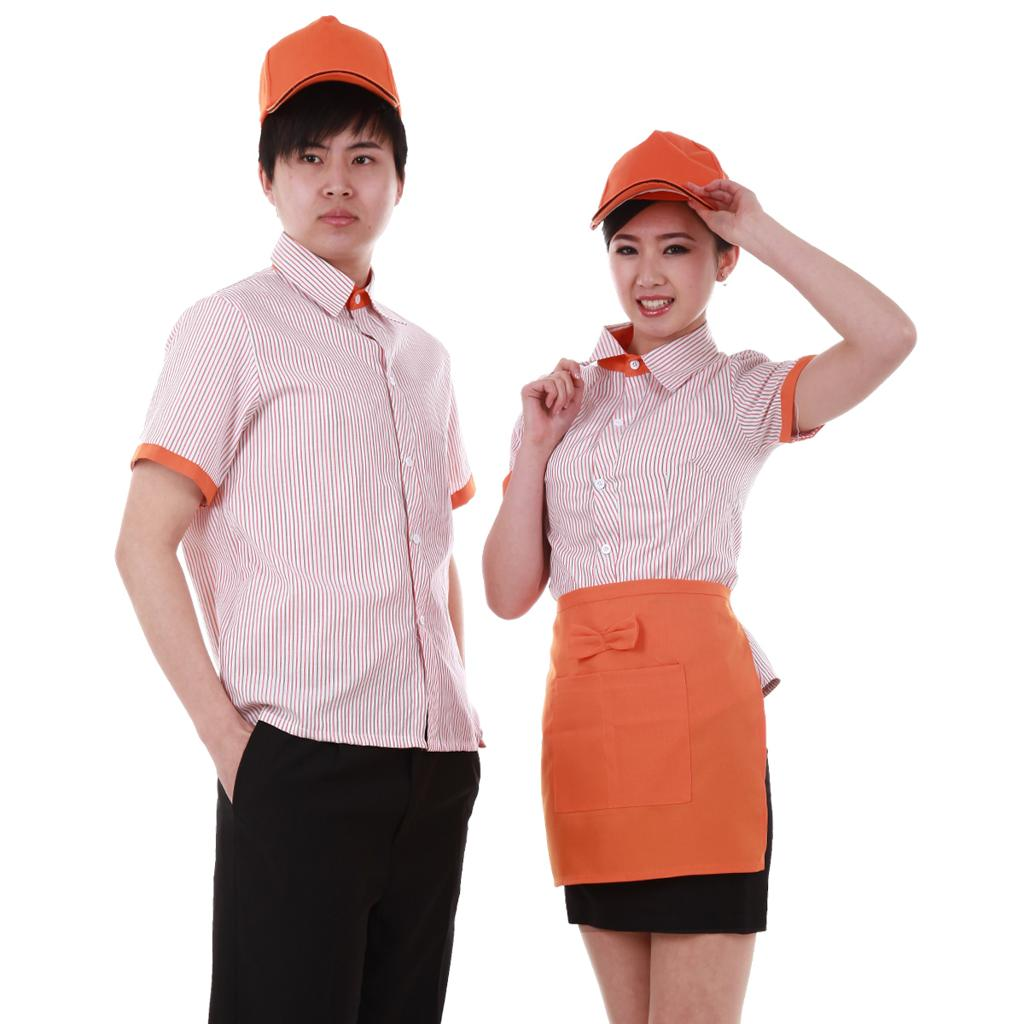face: (264, 96, 400, 256), (608, 194, 708, 334)
